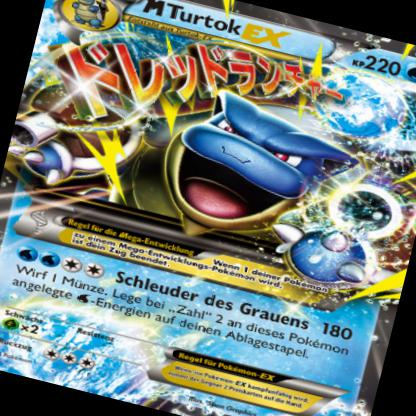Blastoise: (138, 77, 380, 280)
